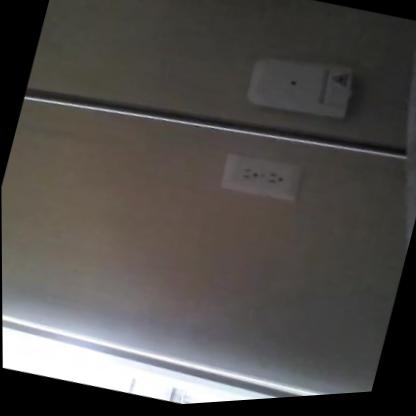OUTLET: (218, 146, 304, 207)
